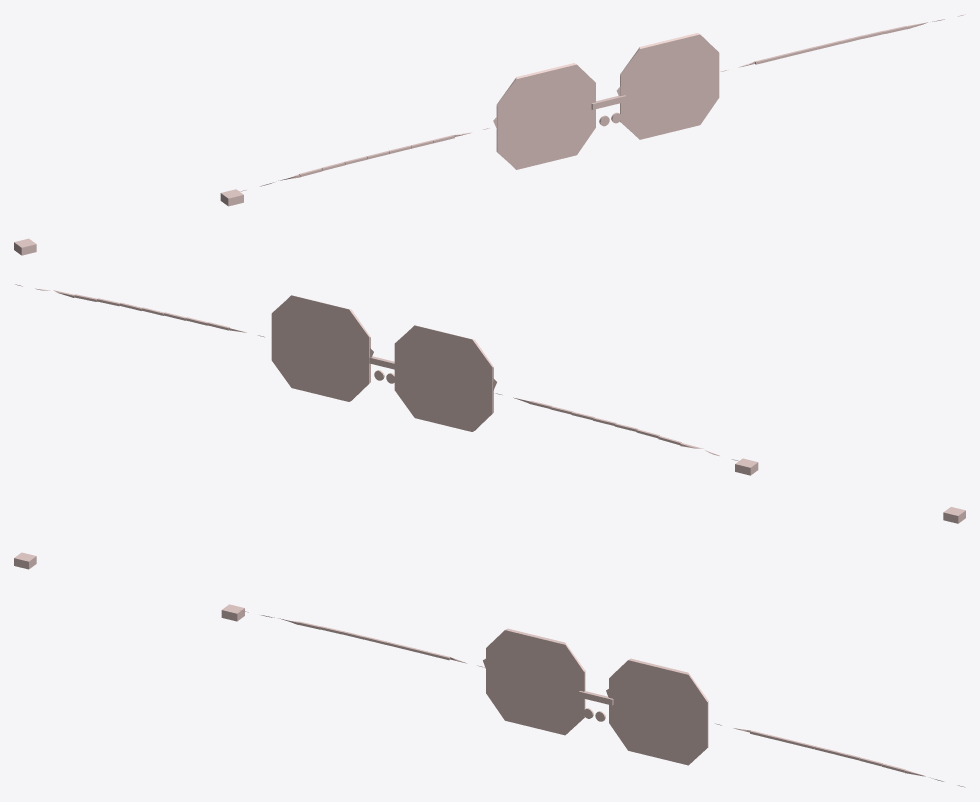
Rendered from deformed.glb.
3 views of the same model, one above another, from view 1: azimuth 30°, elevation 25°; view 2: azimuth 150°, elevation 25°; view 3: azimuth 330°, elevation 25° (orthographic).
Parts seen in each view (by area): view 1: Frame, LeftTemple, RightTemple, TempleTips; view 2: Frame, LeftTemple, RightTemple, TempleTips; view 3: Frame, RightTemple, LeftTemple, TempleTips.
Part boxes in pixels (x1,y1,x2,y2): Frame: [496, 33, 719, 169]; LeftTemple: [239, 128, 490, 191]; RightTemple: [720, 14, 965, 71]; TempleTips: [14, 189, 243, 255]; Frame: [271, 295, 493, 431]; LeftTemple: [495, 393, 740, 461]; RightTemple: [15, 284, 265, 337]; TempleTips: [735, 458, 965, 523]; Frame: [486, 628, 708, 765]; RightTemple: [715, 723, 965, 787]; LeftTemple: [241, 610, 484, 667]; TempleTips: [14, 552, 244, 621].
Size of the model in its own units: 508 by 47.4 by 11.63.
